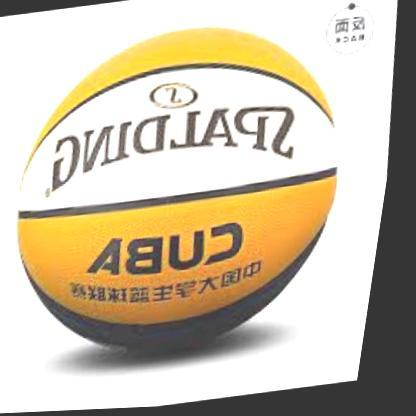basketball: (0, 12, 376, 365)
